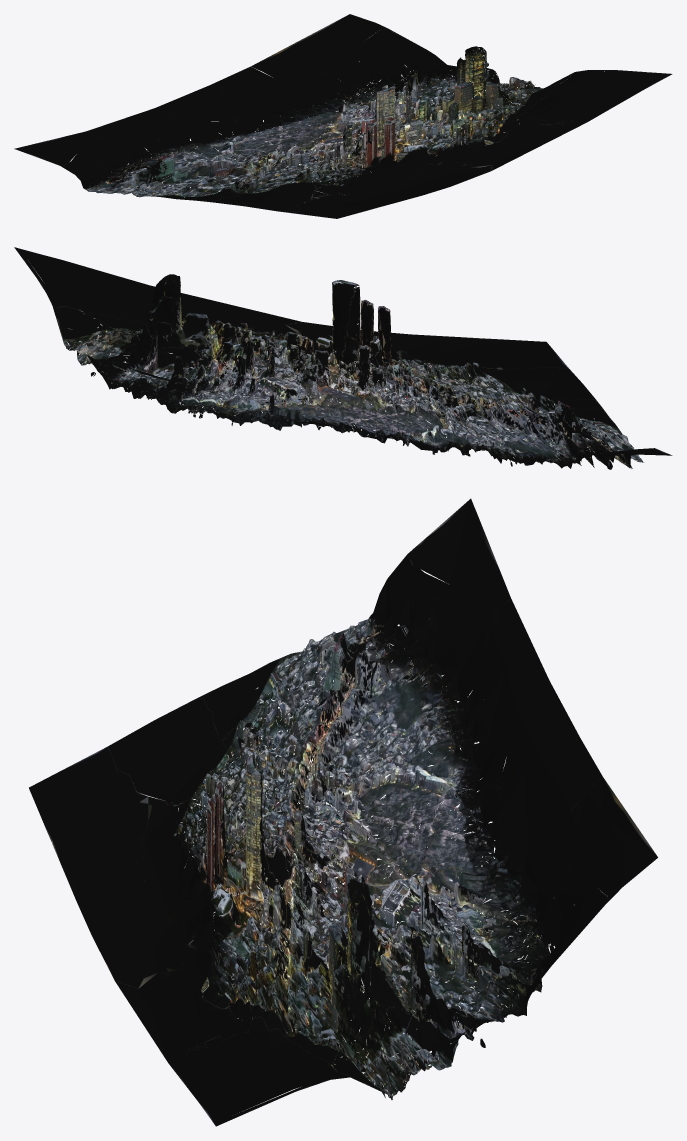
File: japan-night-panorama.glb
The picture shows the model from 3 angles, top to bottom: view 1: azimuth 30°, elevation 25°; view 2: azimuth 150°, elevation 25°; view 3: azimuth 270°, elevation 25°; orthographic projection. The views are drawn at different scales.
Visible parts, largest first — view 1: Japan Night Panorama; view 2: Japan Night Panorama; view 3: Japan Night Panorama.
Boxes of the visible parts, left/top/right/bottom form: Japan Night Panorama: left=14, top=14, right=672, bottom=218; Japan Night Panorama: left=14, top=247, right=672, bottom=469; Japan Night Panorama: left=29, top=498, right=657, bottom=1126.
Size of the model in its own units: 310 by 37.94 by 142.
3 materials, 3 textured.
